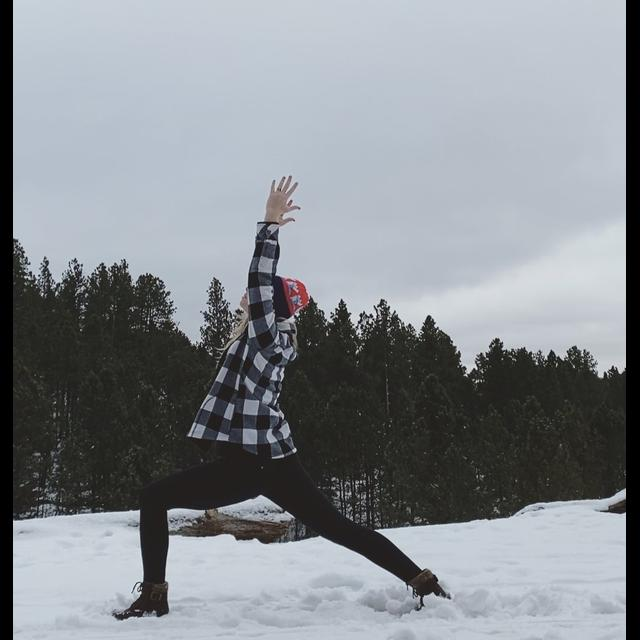Warrior_I: (112, 165, 451, 625)
